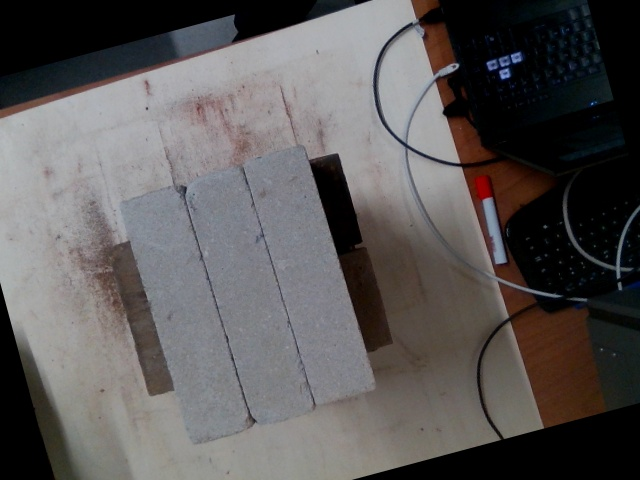brick-side: (242, 147, 376, 406), (180, 163, 313, 422), (118, 185, 251, 444)
